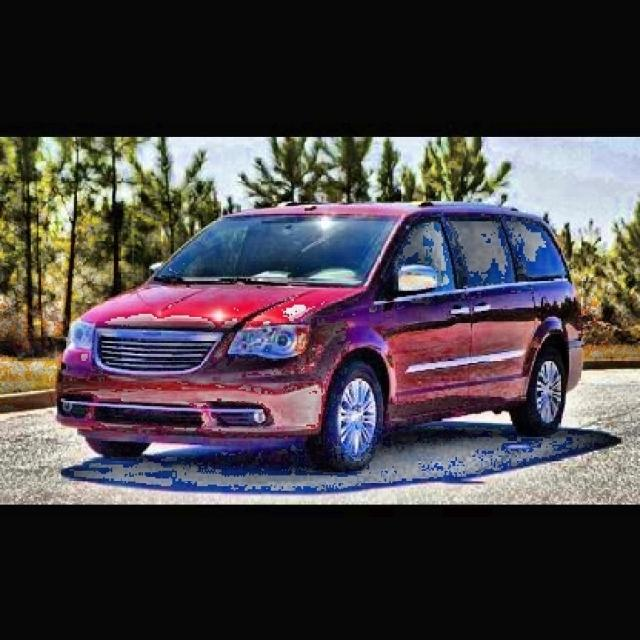maroon: (56, 205, 581, 468)
